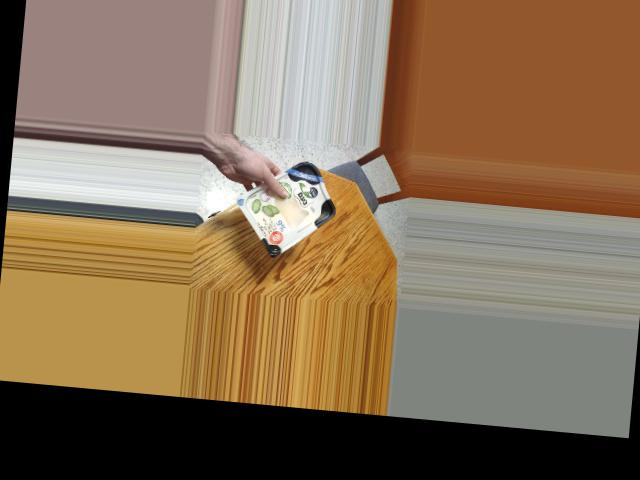cheese: (248, 154, 340, 254)
